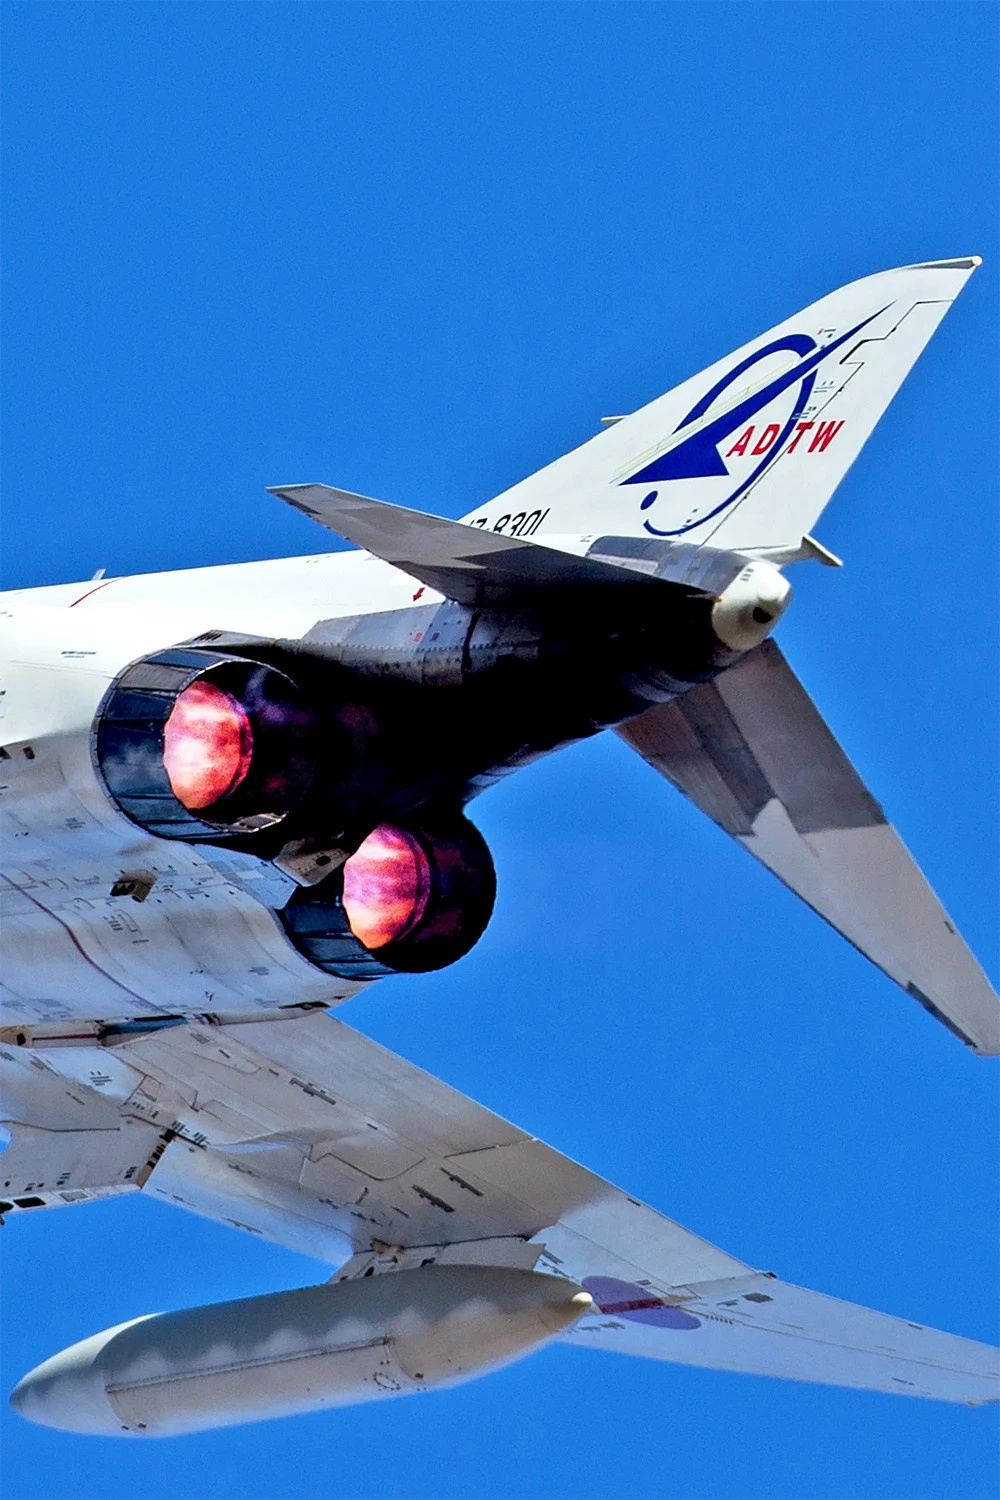F4: (1, 254, 1000, 1439)
